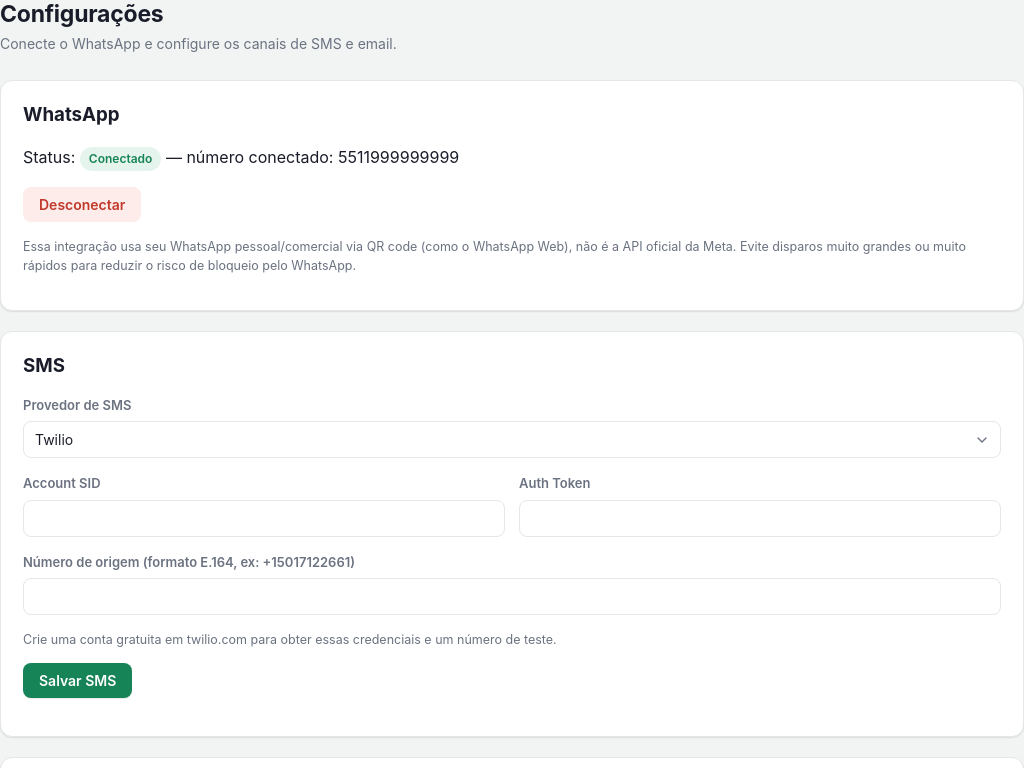
Test: ConfiguracoesPage - WhatsApp › logs out after confirmation
The width and height of the screenshot is (1024, 768).
Step 1. Click the button "Desconectar" → (82, 204), box [23, 187, 141, 222]
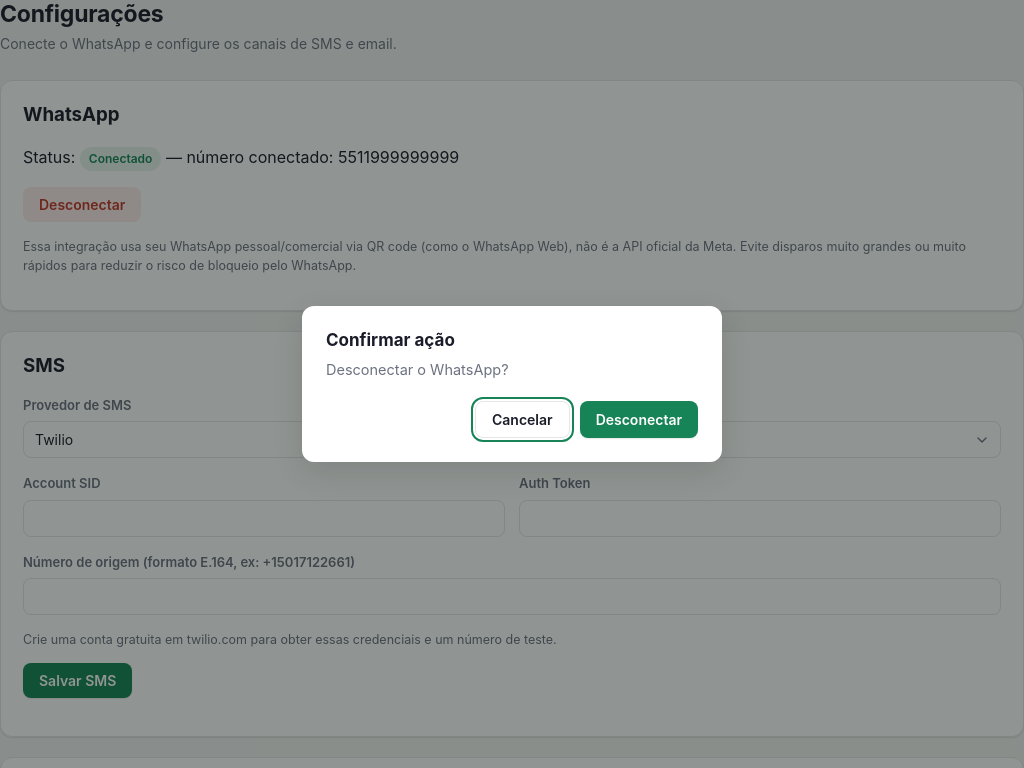
Step 2. Click the button "Desconectar" → (639, 420), box [580, 401, 698, 438]
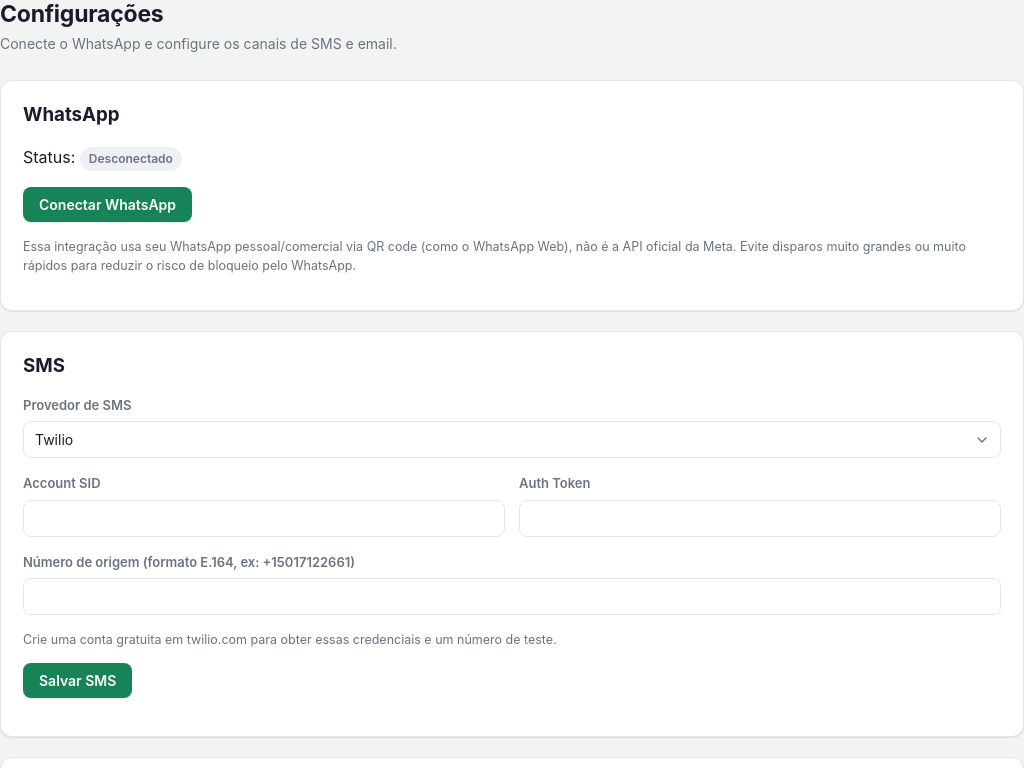
Now the button "Conectar WhatsApp" is shown, box [23, 187, 192, 222]
